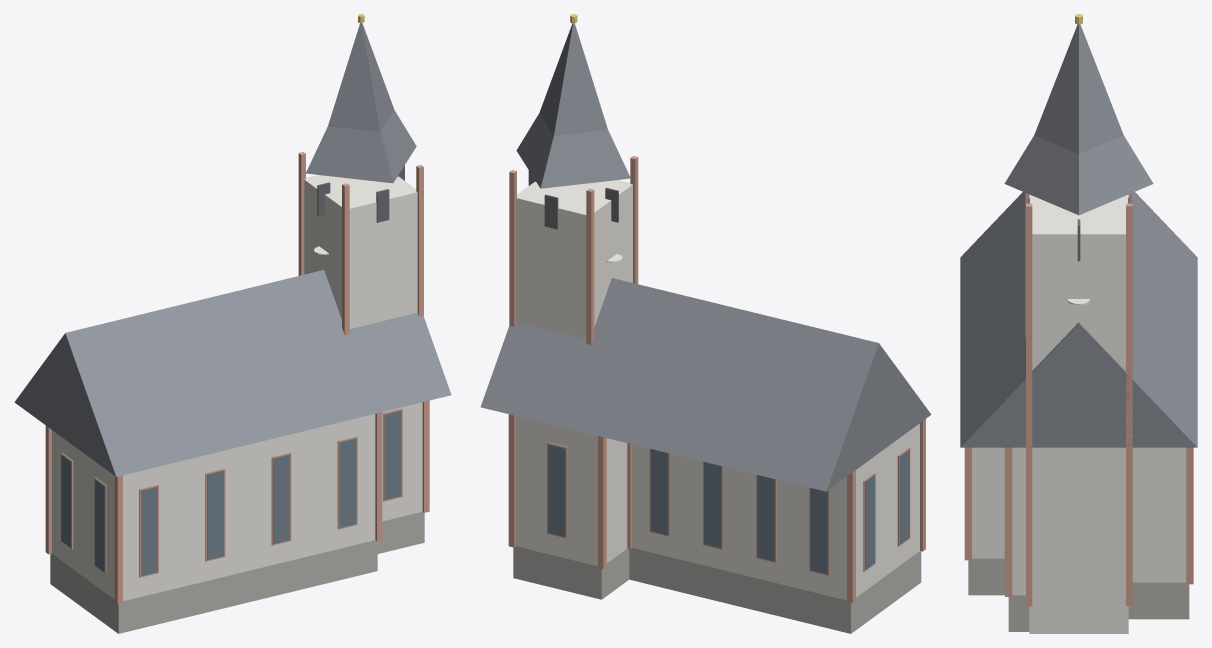
File: church-evangelische-kirche-holzen.glb
3 views of the same model, side by side, from view 1: azimuth 30°, elevation 25°; view 2: azimuth 150°, elevation 25°; view 3: azimuth 270°, elevation 25° (orthographic). The views are drawn at different scales.
Parts seen in each view (by area): view 1: building; view 2: building; view 3: building.
Part boxes in pixels (box(x1,y1,x2,y2)): building: box(14, 14, 451, 633); building: box(480, 14, 931, 633); building: box(960, 14, 1197, 633).
Bounding box in the file's own units: 29.19 × 40.75 × 14.67.
